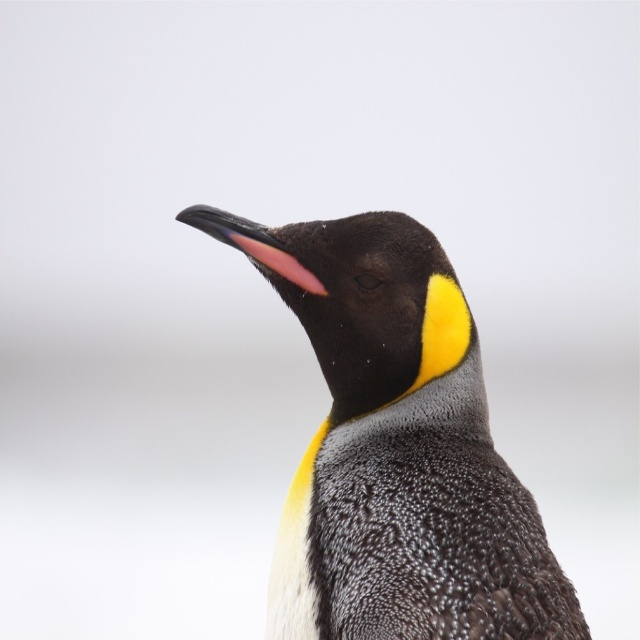Penguin: (174, 204, 592, 638)
